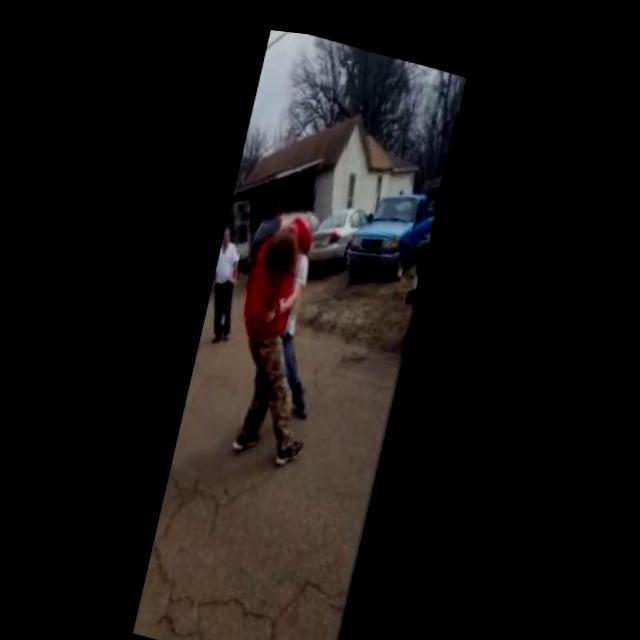fight: (214, 192, 364, 476)
